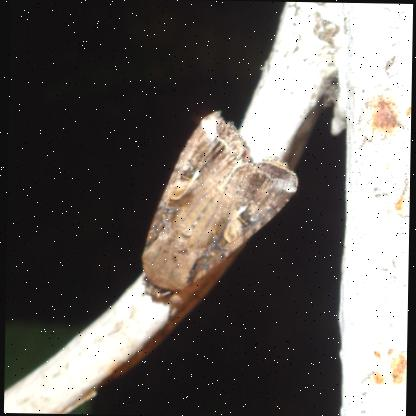Fall Armyworm Moth: (137, 106, 301, 302)
